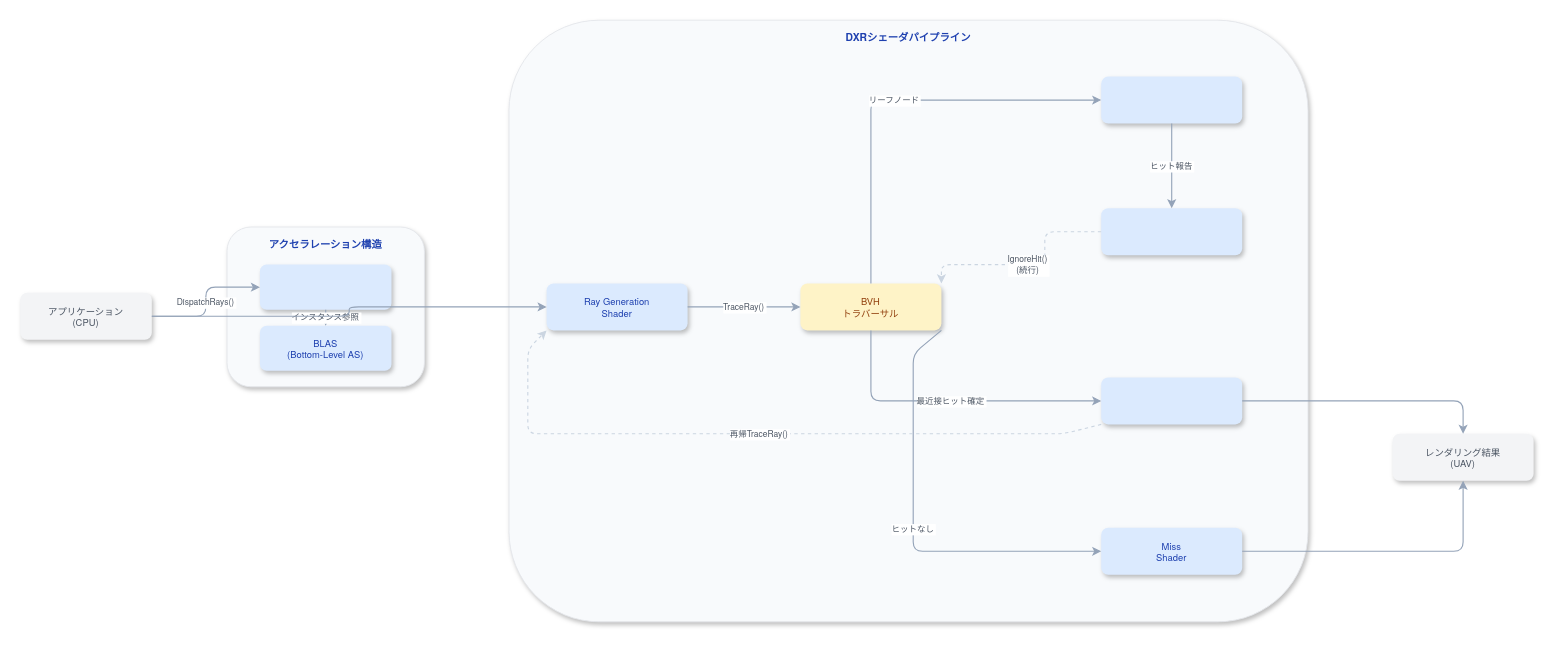
The diagram is 1555 pixels wide and 645 high, and some of its shapes have lost their labels. Each missing label, with the centre of its shape:
"Any-Hit Shader" belongs at point (1172, 232).
"Closest-Hit Shader" belongs at point (1172, 402).
"Intersection Shader" belongs at point (1172, 101).
"TLAS (Top-Level AS)" belongs at point (326, 288).
